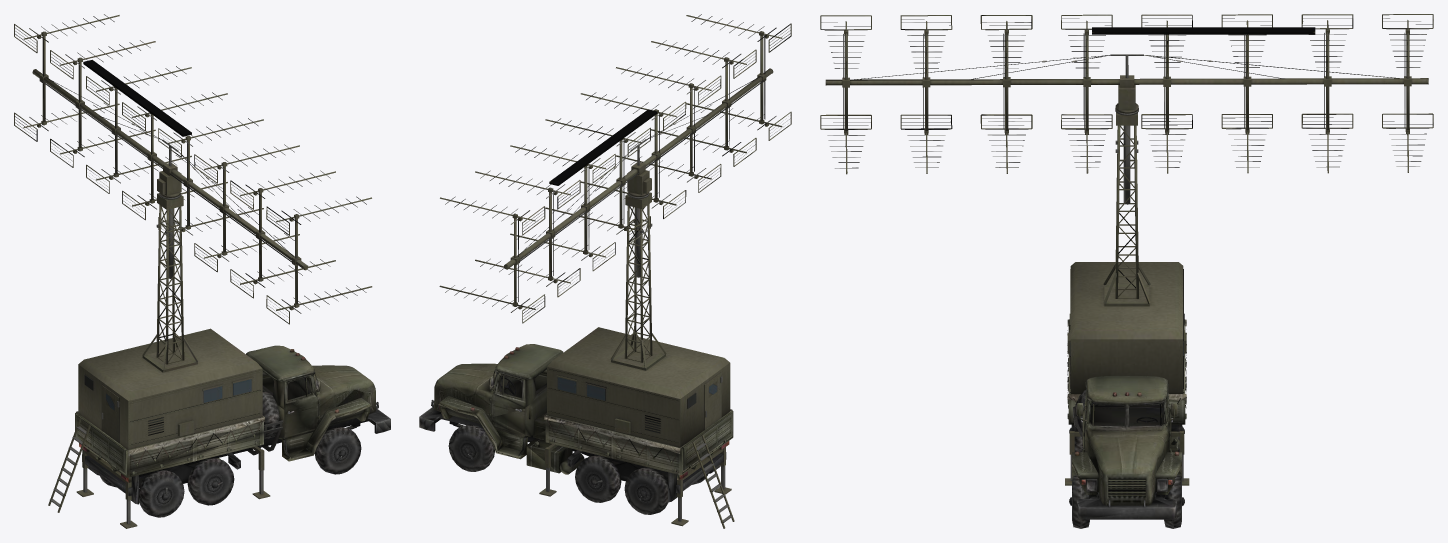
Rendered from krasukha.glb.
3 renders of one model, left to right at view 1: azimuth 30°, elevation 25°; view 2: azimuth 150°, elevation 25°; view 3: azimuth 270°, elevation 25°, orthographic. The views are drawn at different scales.
Visible parts, largest first — view 1: g_krasukha_hull, g_krasukha_turret; view 2: g_krasukha_hull, g_krasukha_turret; view 3: g_krasukha_hull, g_krasukha_turret.
Part boxes in pixels (left/top/right/bottom): g_krasukha_hull: left=48, top=193, right=390, bottom=528; g_krasukha_turret: left=14, top=14, right=372, bottom=324; g_krasukha_hull: left=419, top=192, right=734, bottom=528; g_krasukha_turret: left=439, top=14, right=791, bottom=323; g_krasukha_hull: left=1065, top=108, right=1189, bottom=528; g_krasukha_turret: left=820, top=14, right=1433, bottom=204.
Size of the model in its own units: 7.4 by 8.7 by 11.48.
Materials: 2 (2 with a texture image).
